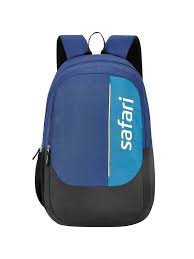backpack: (32, 31, 155, 227)
